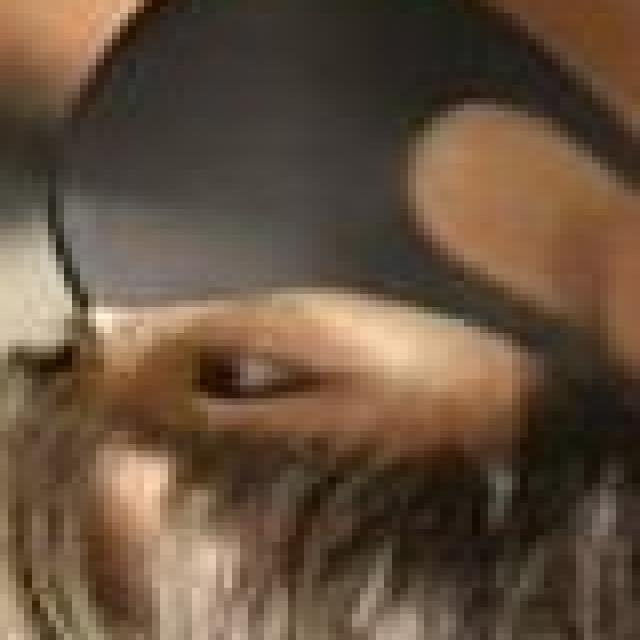Mask: (32, 9, 606, 369)
